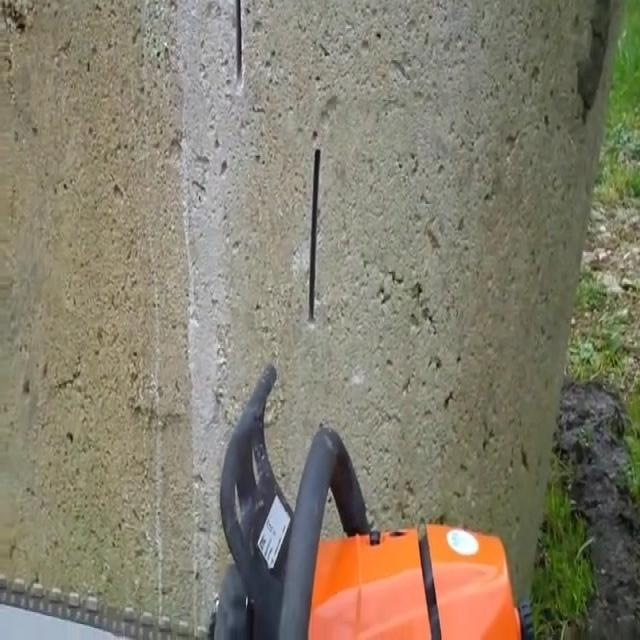Chainsaw: (0, 350, 541, 640)
